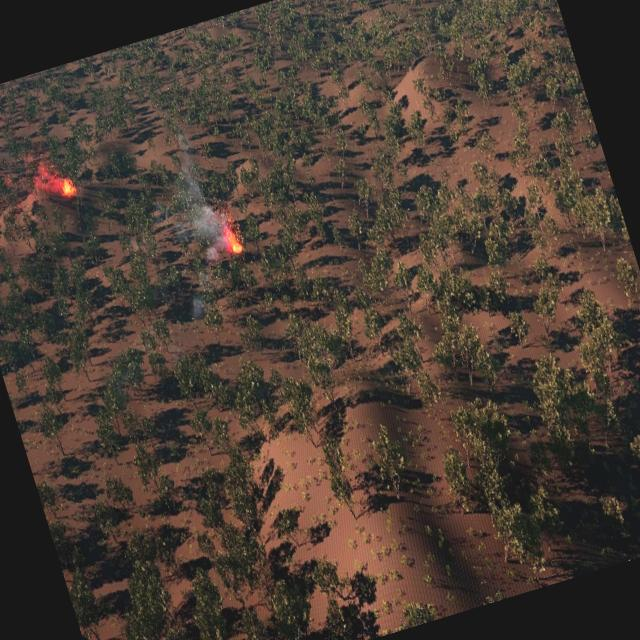fire: (220, 222, 242, 256), (59, 177, 75, 196)
smoke: (150, 125, 235, 269), (28, 151, 66, 200), (186, 291, 209, 321)
